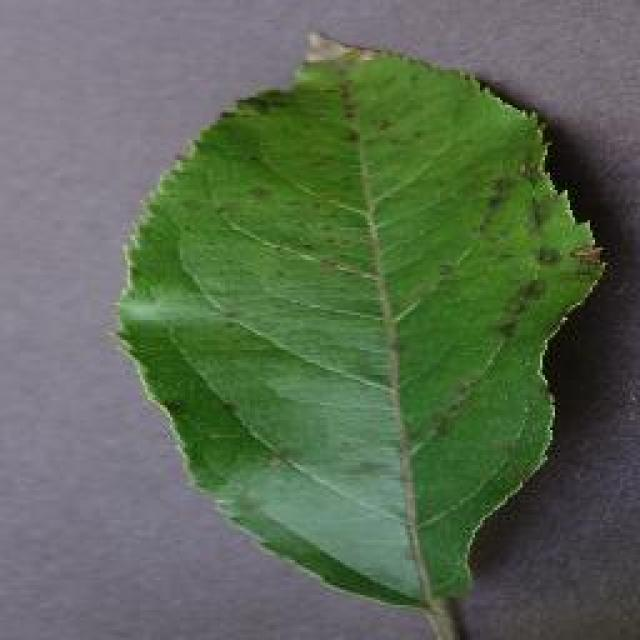apple scab disease: (112, 28, 610, 632)
